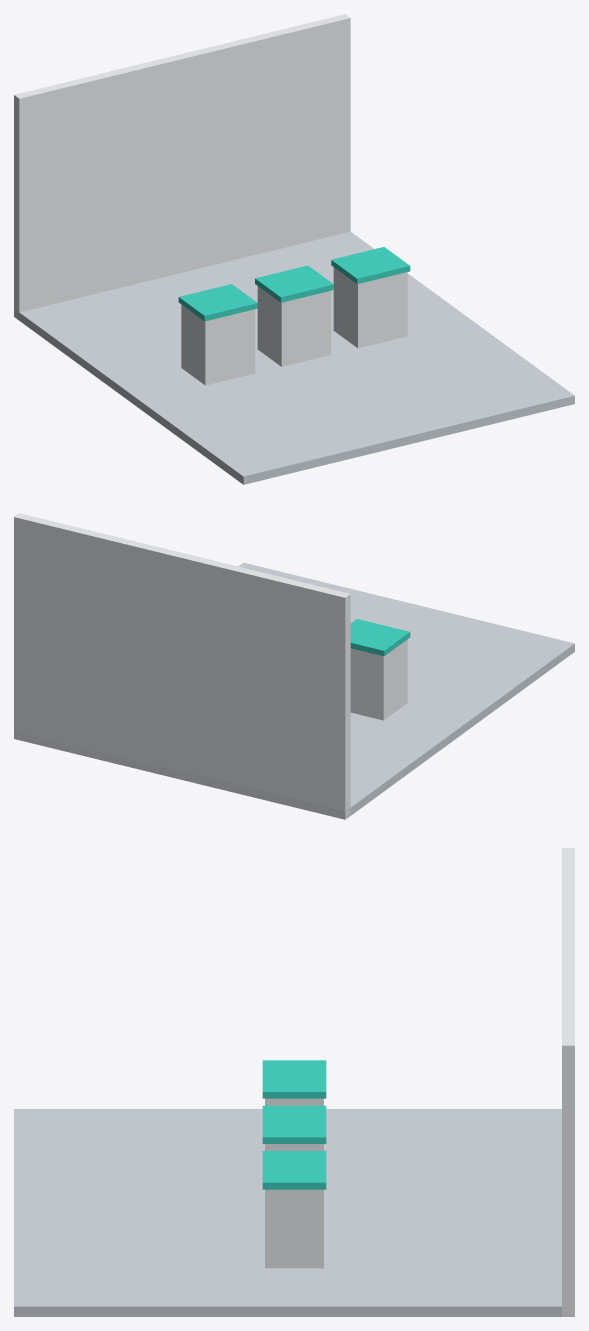
The picture shows the model from 3 angles, top to bottom: view 1: azimuth 30°, elevation 25°; view 2: azimuth 150°, elevation 25°; view 3: azimuth 270°, elevation 25°; orthographic projection. The views are drawn at different scales.
Visible parts, largest first — view 1: Exhibition Booth Concept; view 2: Exhibition Booth Concept; view 3: Exhibition Booth Concept.
Boxes of the visible parts, box(x1,y1,x2,y2) form: Exhibition Booth Concept: box(14, 14, 574, 484); Exhibition Booth Concept: box(14, 513, 574, 819); Exhibition Booth Concept: box(14, 848, 574, 1316).
Bounding box in the file's own units: 5 × 3.2 × 6.
